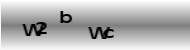2: (35, 21, 48, 34)
W: (88, 26, 110, 40), (22, 23, 42, 37)
b: (58, 10, 73, 23)
c: (103, 28, 116, 39)
